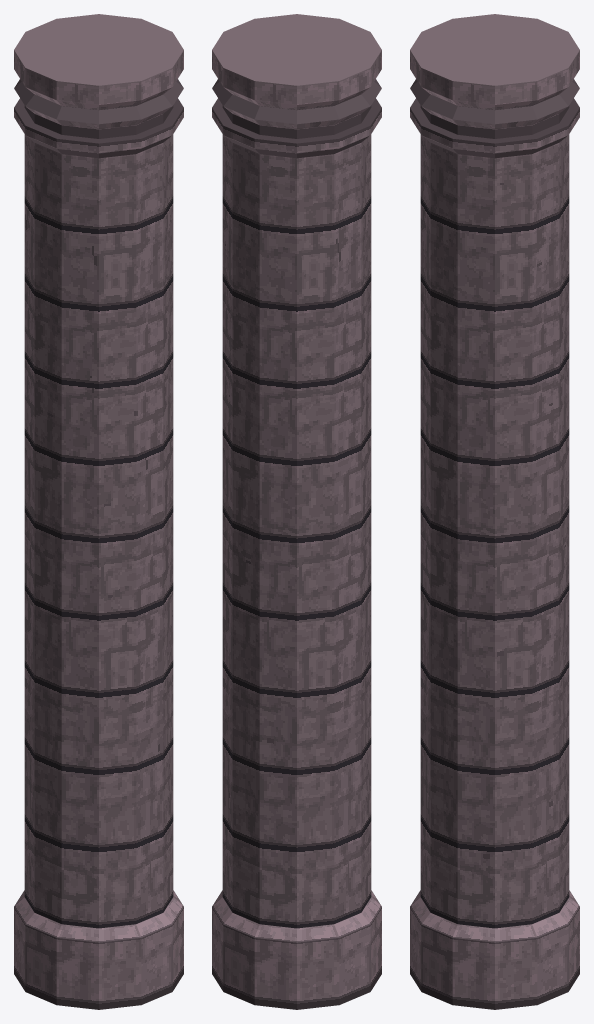
Rendered from saeule_z0_heil.glb.
3 renders of one model, left to right at view 1: azimuth 30°, elevation 25°; view 2: azimuth 150°, elevation 25°; view 3: azimuth 270°, elevation 25°, orthographic.
Parts seen in each view (by area): view 1: saeule_z0_heil; view 2: saeule_z0_heil; view 3: saeule_z0_heil.
Boxes of the visible parts, x1,y1,x2,y2 form: saeule_z0_heil: [14, 14, 183, 1009]; saeule_z0_heil: [212, 14, 381, 1009]; saeule_z0_heil: [410, 14, 579, 1009].
Bounding box in the file's own units: 1 × 6 × 1.
1 material, 1 textured.
